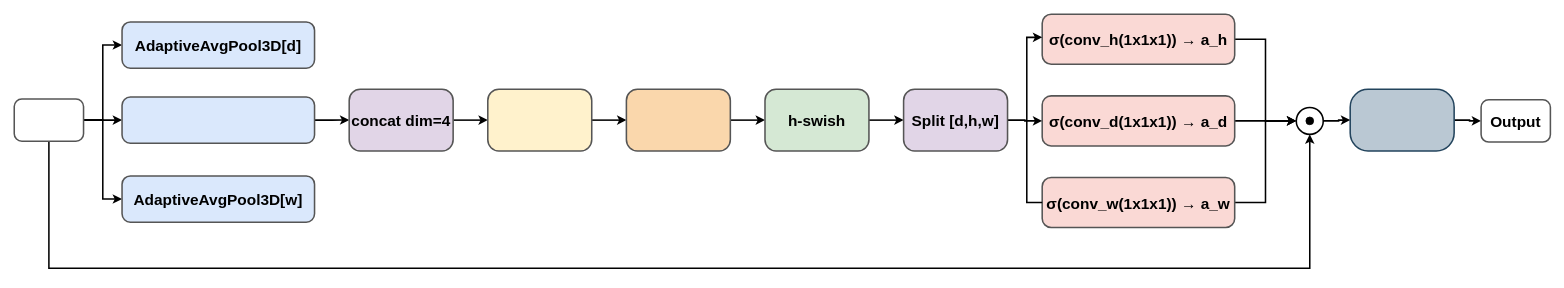
The diagram is 1564 pixels wide and 288 high, and some of its shapes have lost their labels. Here are the shapes that lost their labels. From the top down, the centre of each, then its label:
point 48,120: Input
point 218,120: AdaptiveAvgPool3D[h]
point 539,119: Conv 3D 1x1x1
point 678,119: GroupNorm 3d
point 1402,119: Dropout(0.1)
